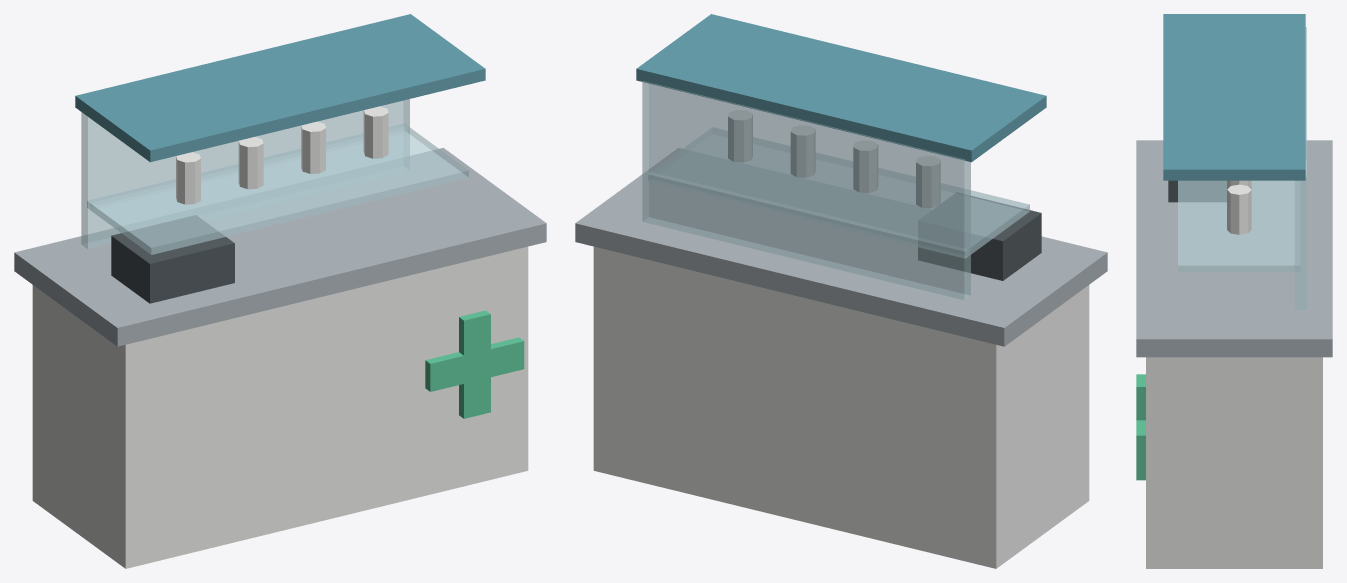
Rendered from pharmacy_counter.glb.
The picture shows the model from 3 angles, left to right: view 1: azimuth 30°, elevation 25°; view 2: azimuth 150°, elevation 25°; view 3: azimuth 270°, elevation 25°; orthographic projection. The views are drawn at different scales.
Parts seen in each view (by area): view 1: pharmacy_counter; view 2: pharmacy_counter; view 3: pharmacy_counter.
Boxes of the visible parts, left/top/right/bottom form: pharmacy_counter: left=14, top=14, right=546, bottom=568; pharmacy_counter: left=575, top=14, right=1107, bottom=568; pharmacy_counter: left=1136, top=14, right=1332, bottom=568.
Size of the model in its own units: 1.92 by 1.73 by 0.8.
